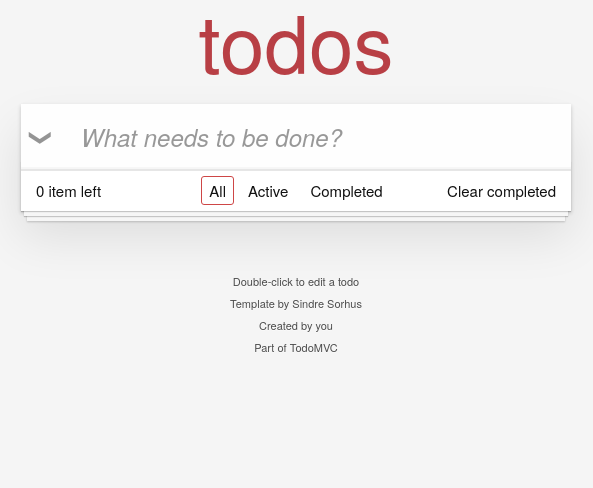
Main › should have remain active todo count
Expected: the element with test id "todo-count" reads "0 item left", 36,181 -> 101,201
Type "1" into the field with test id "newTodo" at (296, 137), box 21,104 -> 571,169
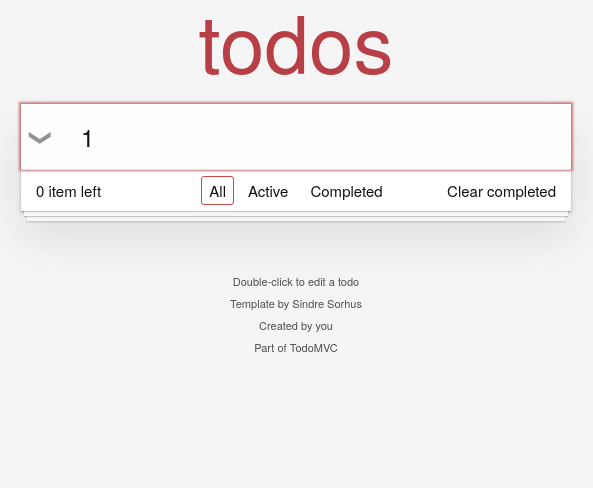
Press Enter in the field with test id "newTodo", box 21,104 -> 571,169
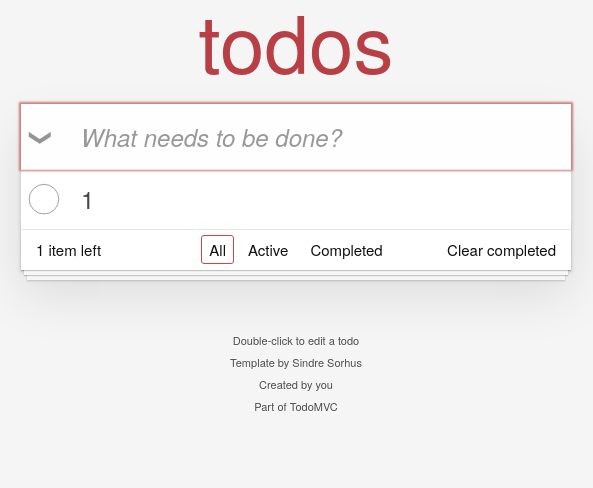
Type "2" into the field with test id "newTodo" at (296, 137), box 21,104 -> 571,169
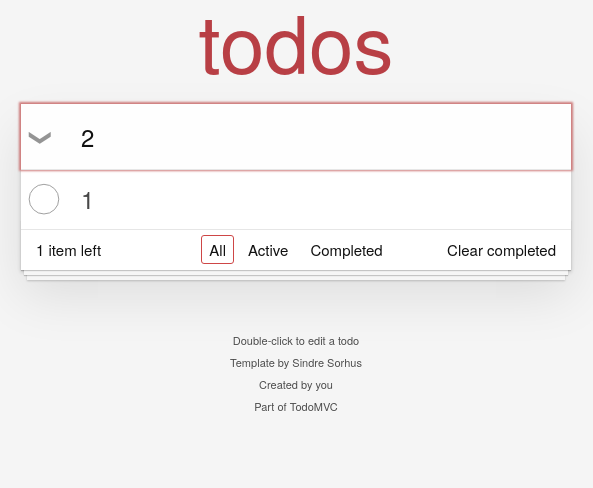
Press Enter in the field with test id "newTodo", box 21,104 -> 571,169
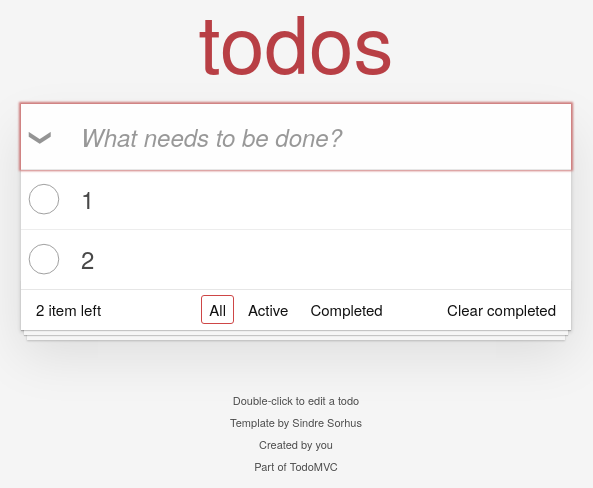
Now the element with test id "todo-count" reads "2 item left", box 36,300 -> 101,320
Check the checkbox with class "toggle" at (41, 199), box 21,179 -> 61,219
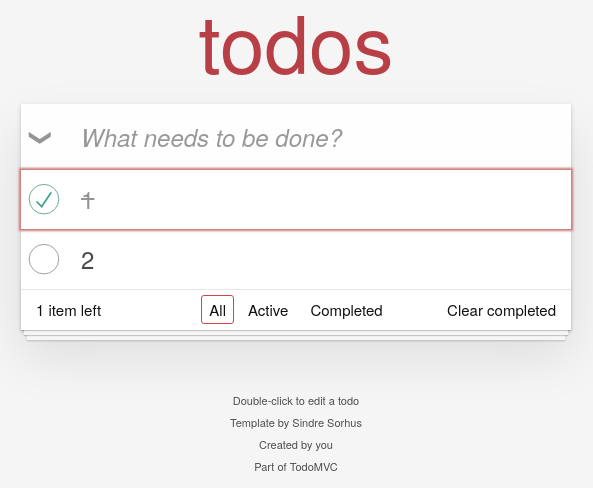
Now the element with test id "todo-count" reads "1 item left", box 36,300 -> 101,320
